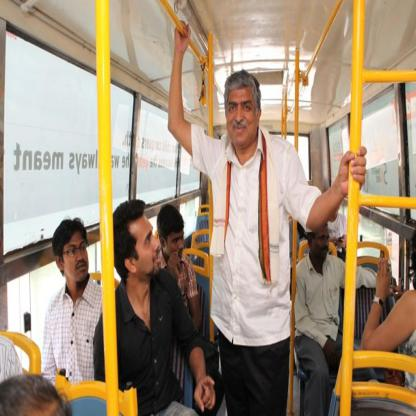face: (227, 93, 258, 145), (137, 219, 163, 274), (65, 236, 90, 281), (166, 229, 185, 260), (314, 228, 330, 258)
